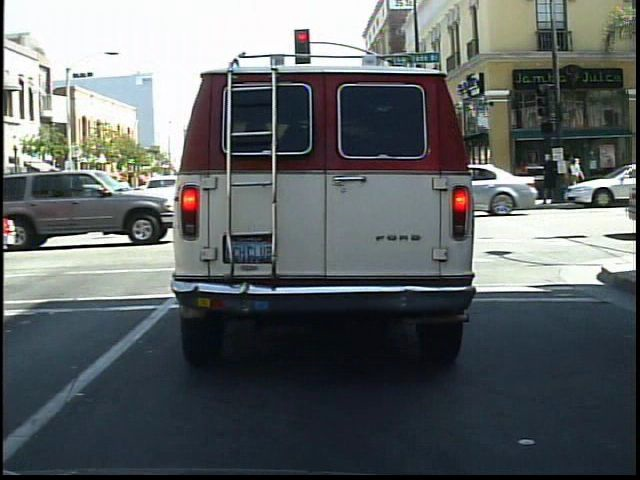person: (539, 151, 562, 212), (513, 156, 533, 202)
